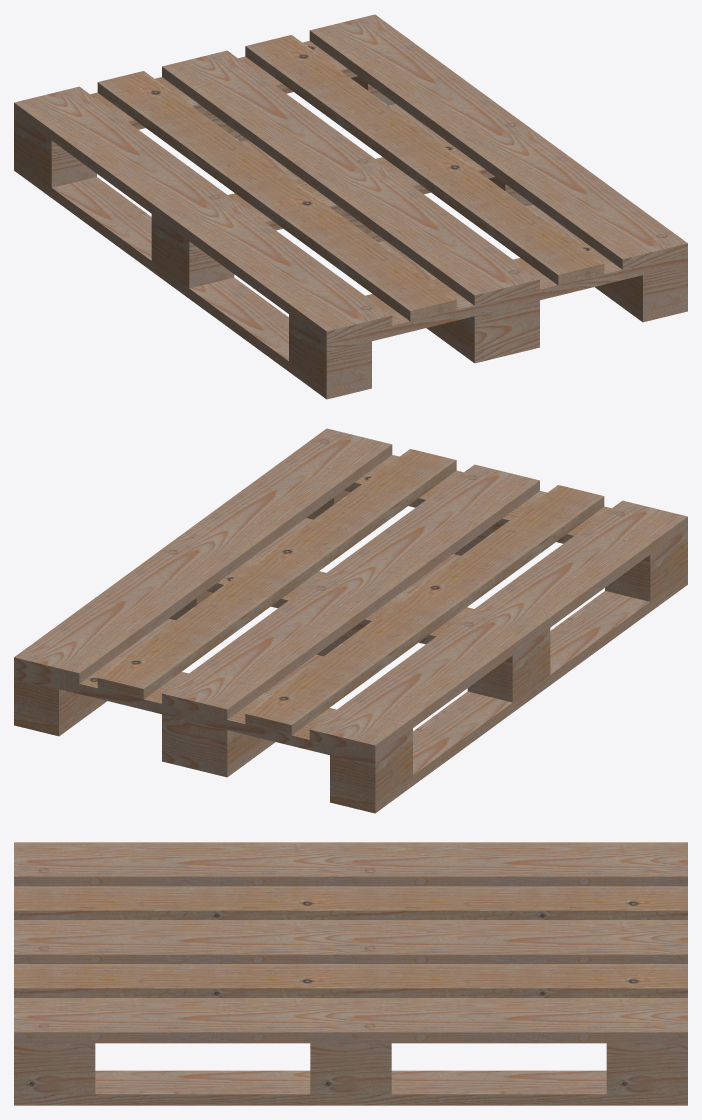
File: europallet.dae
3 views of the same model, one above another, from view 1: azimuth 30°, elevation 25°; view 2: azimuth 150°, elevation 25°; view 3: azimuth 270°, elevation 25° (orthographic). The views are drawn at different scales.
Parts seen in each view (by area): view 1: EuroPallet.001; view 2: EuroPallet.001; view 3: EuroPallet.001.
Part boxes in pixels (<box>): EuroPallet.001: <box>14,14,687,399</box>; EuroPallet.001: <box>14,428,687,813</box>; EuroPallet.001: <box>14,842,687,1105</box>.
Bounding box in the file's own units: 0.8 × 1.2 × 0.144.
